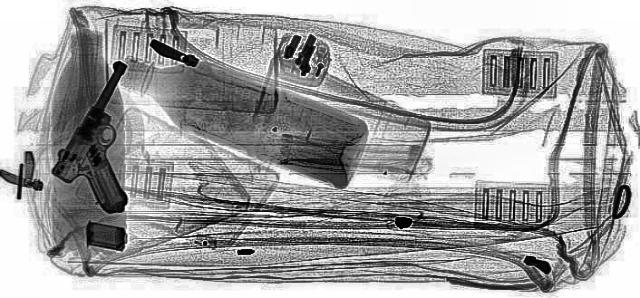Gun: (36, 59, 176, 213)
